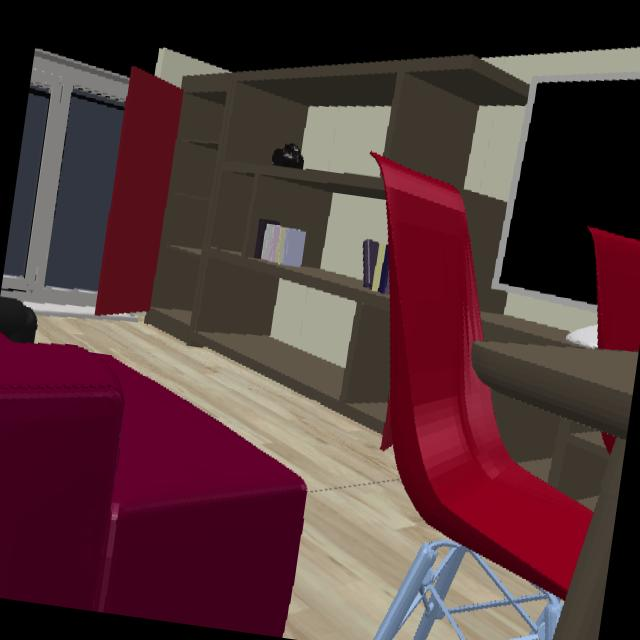bookshelf: (94, 55, 530, 405)
chair: (370, 153, 594, 602), (589, 226, 640, 354)
monitor: (497, 78, 640, 307)
sofa: (0, 333, 308, 637)
table: (471, 341, 637, 640)
